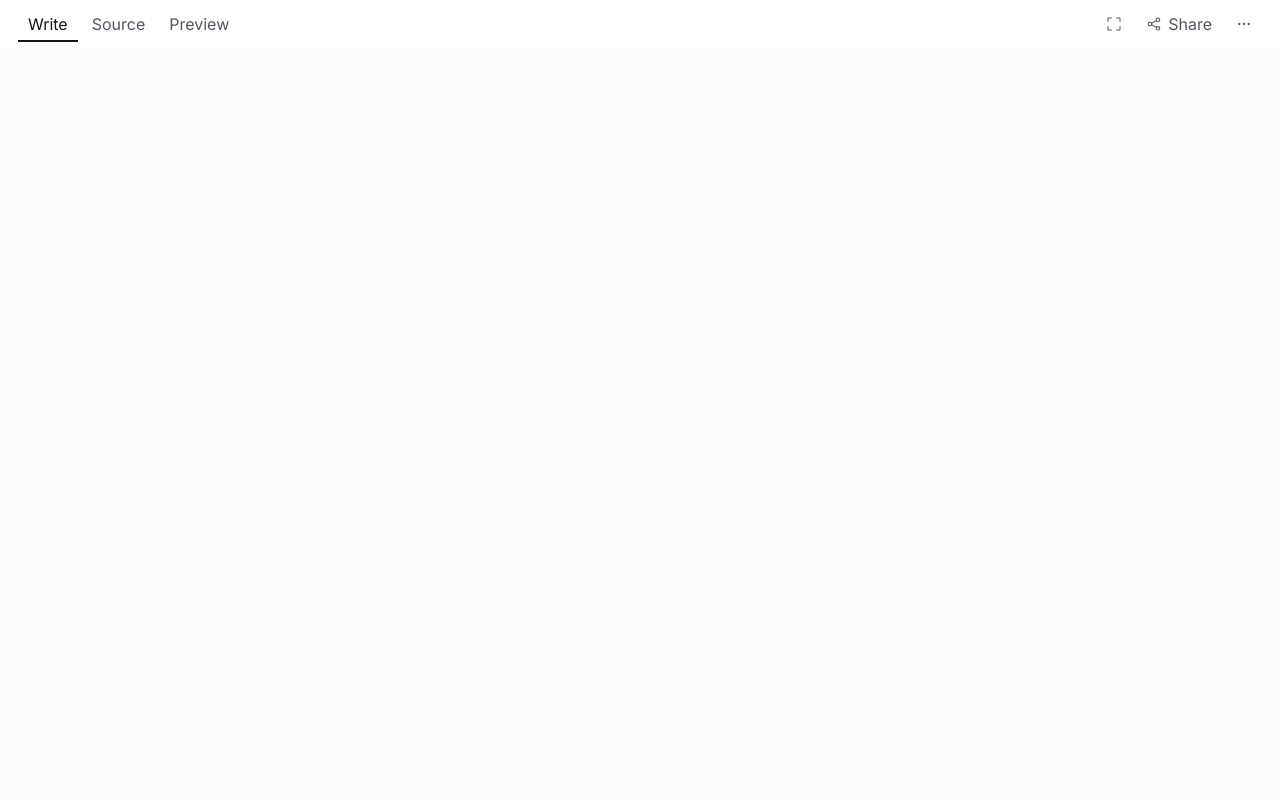
Scenario: dismisses on outside interaction and keeps disabled delete out of keyboard navigation
Click the button named "Document actions". click: (1244, 24)
box: [1226,6,1262,42]
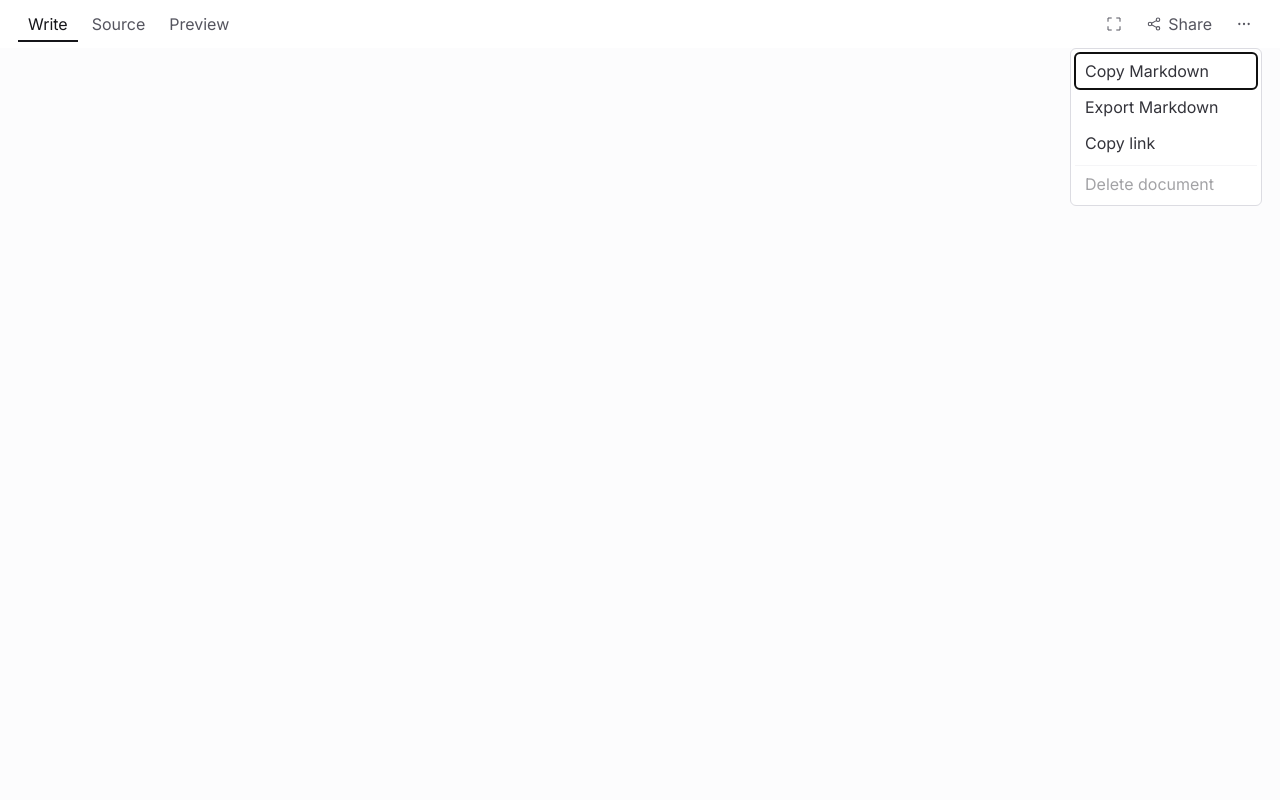
Press End in the menu item "Copy Markdown", box [1075,53,1257,89]
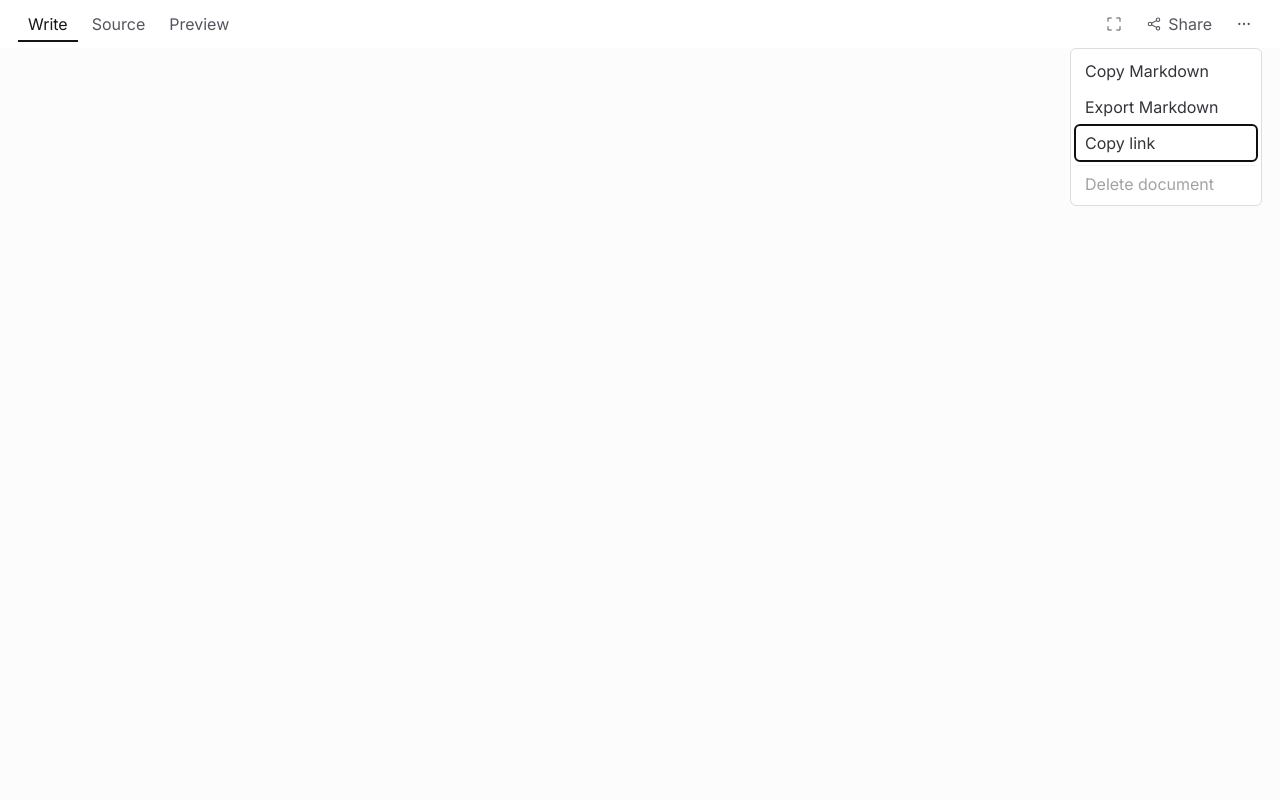
Press the mouse on the element that starts with "Write" at (640, 400), box [0,0,1279,799]
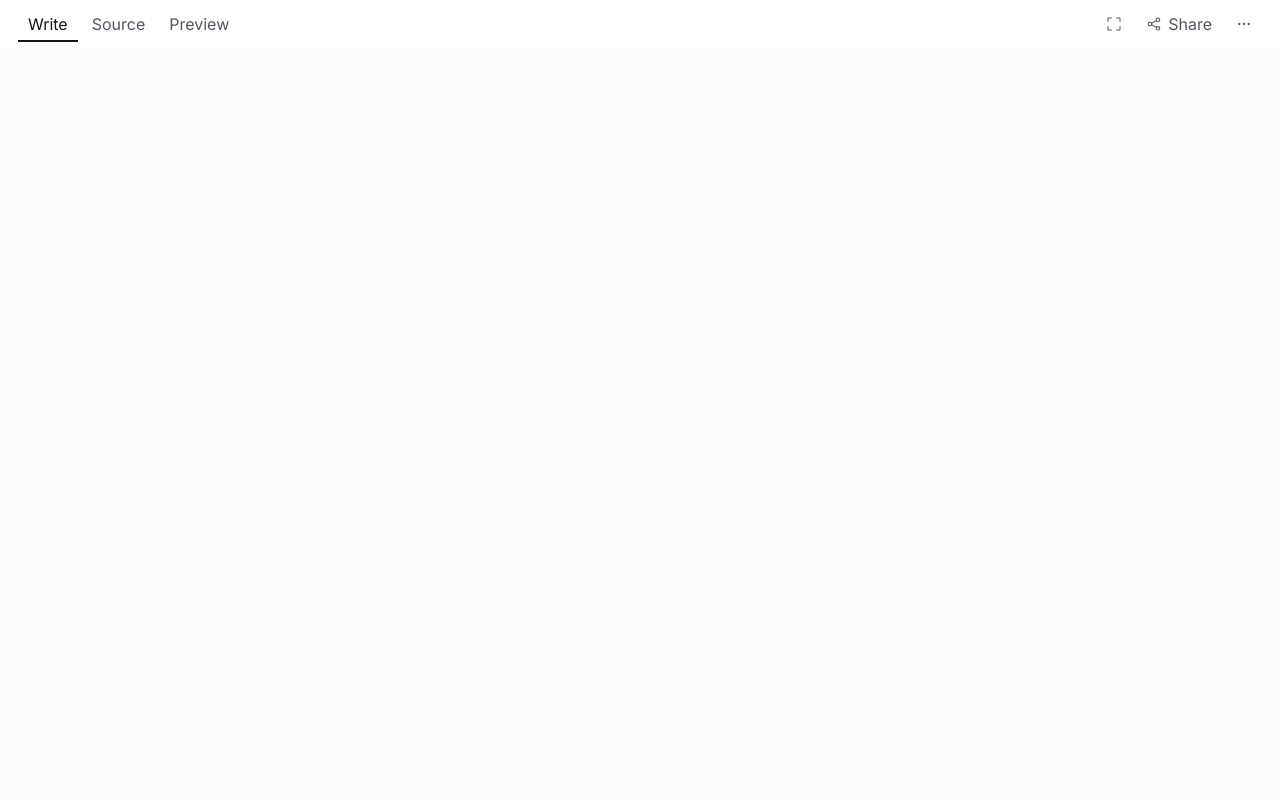
Check: the menu is gone
